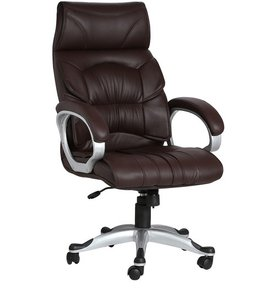chairs: (47, 1, 224, 282)
